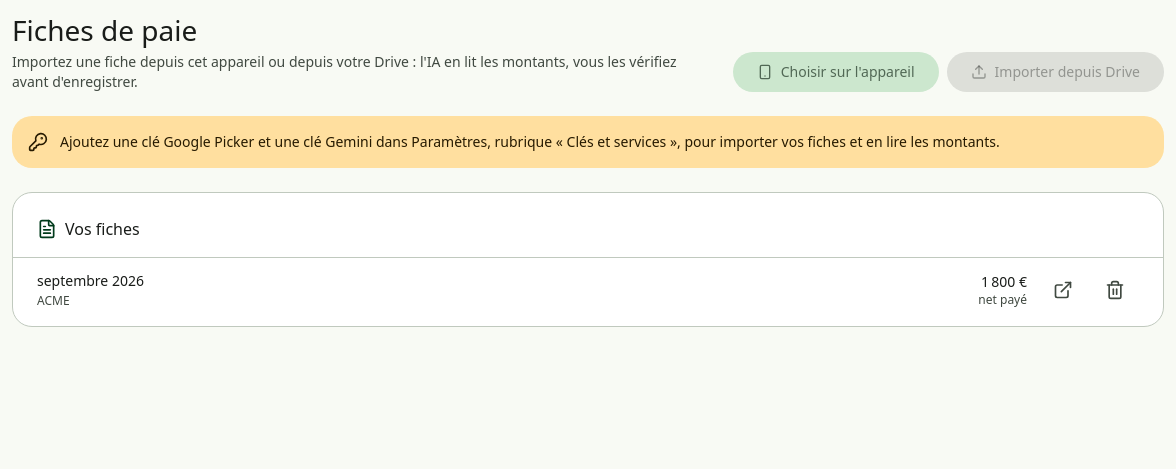
it: Fiches de paie › retrait de la dernière fiche sans clé Picker : le focus va sur « Choisir sur l’appareil »
The width and height of the screenshot is (1176, 469).
Click the button named "Retirer la fiche de septembre 2026 de la liste" at (1115, 290), box [1091,266,1139,314]
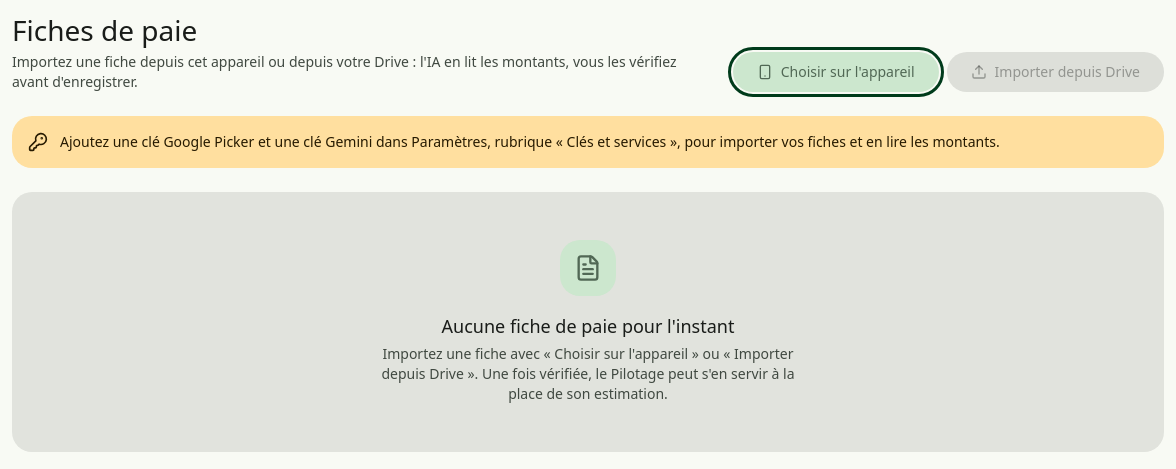
Check: the text "Aucune fiche de paie pour l'instant" is shown, box [442,314,734,338]
